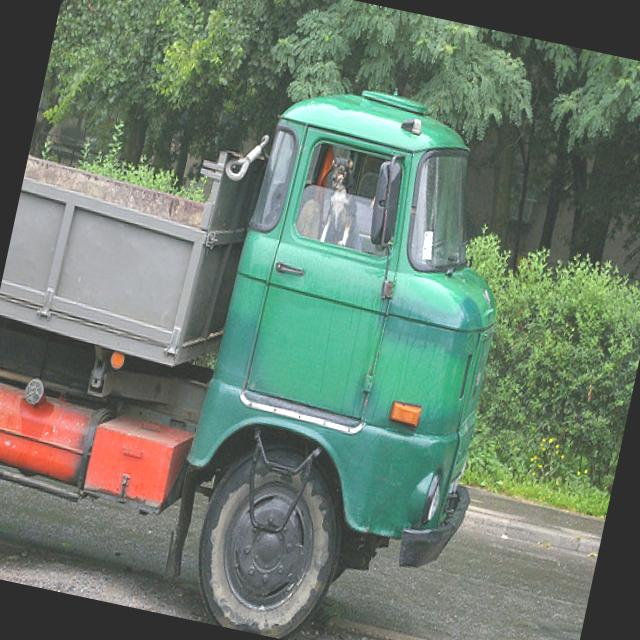Vehicle: (0, 22, 549, 640)
